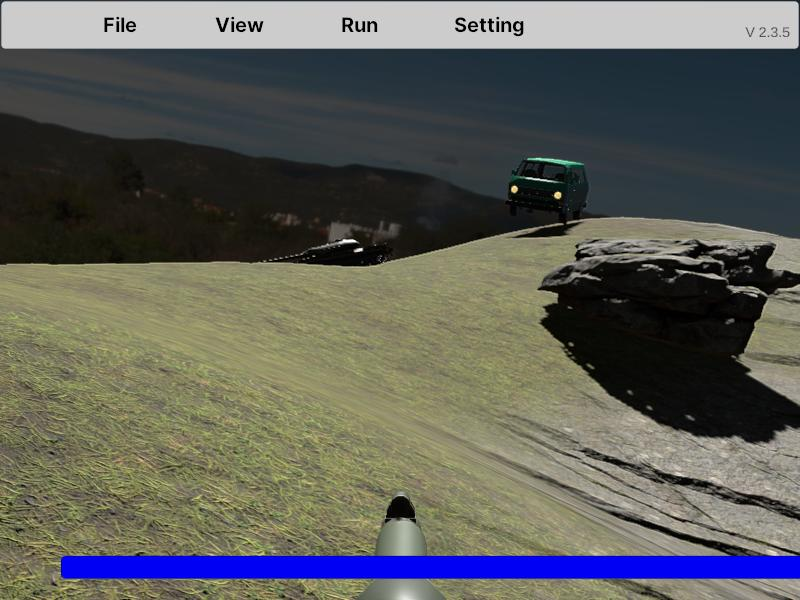car: (507, 156, 589, 221)
